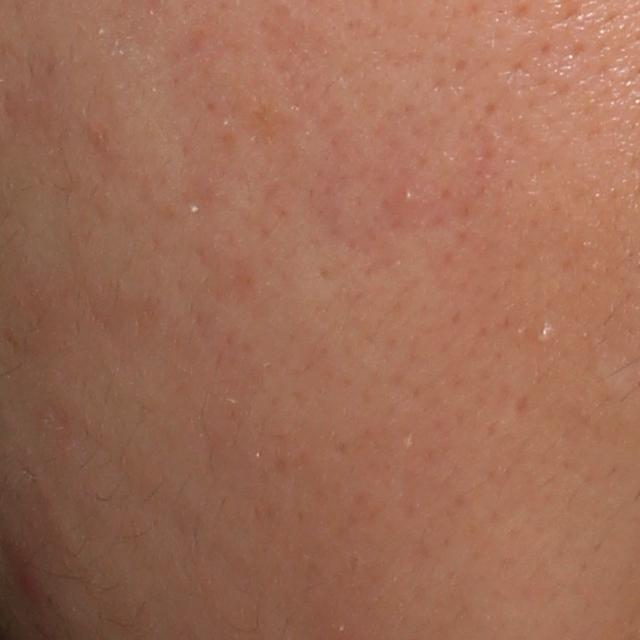comedo: (533, 322, 553, 347)
papule: (17, 572, 37, 596)
